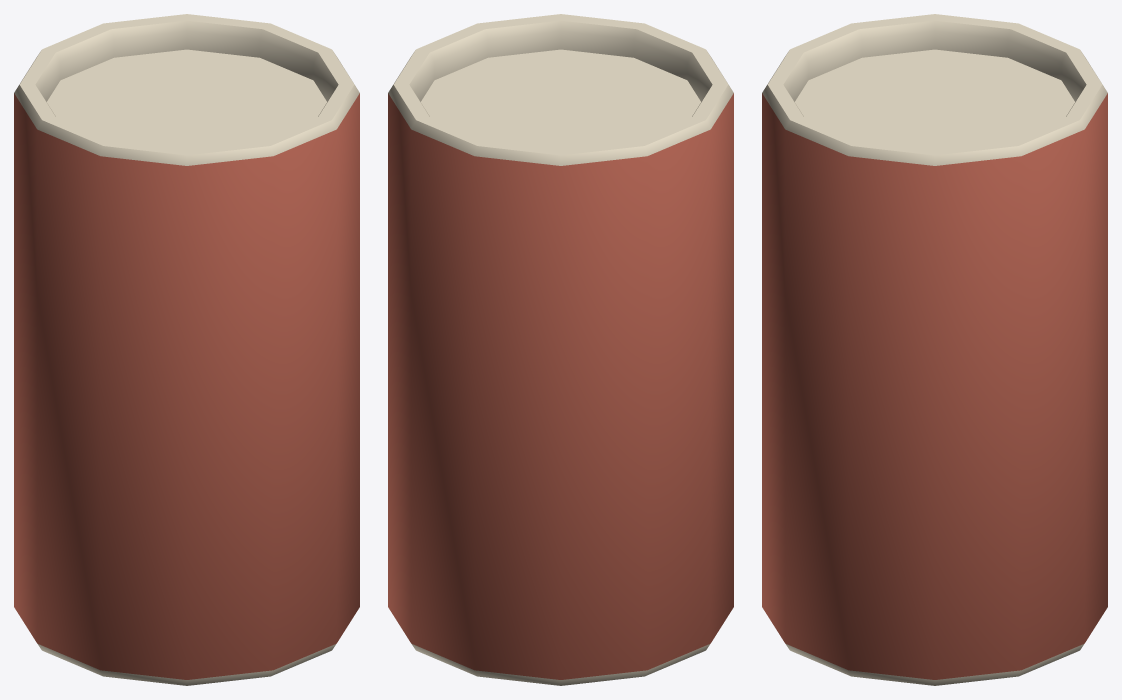
The model's file is tonel.fbx.
3 renders of one model, left to right at view 1: azimuth 30°, elevation 25°; view 2: azimuth 150°, elevation 25°; view 3: azimuth 270°, elevation 25°, orthographic.
Visible parts, largest first — view 1: Cylinder.011; view 2: Cylinder.011; view 3: Cylinder.011.
Boxes of the visible parts, left/top/right/bottom form: Cylinder.011: left=14, top=14, right=359, bottom=685; Cylinder.011: left=388, top=14, right=733, bottom=685; Cylinder.011: left=762, top=14, right=1107, bottom=685.
Size of the model in its own units: 65 by 110 by 65.
